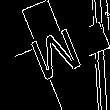M_S: (24, 23, 86, 87)
